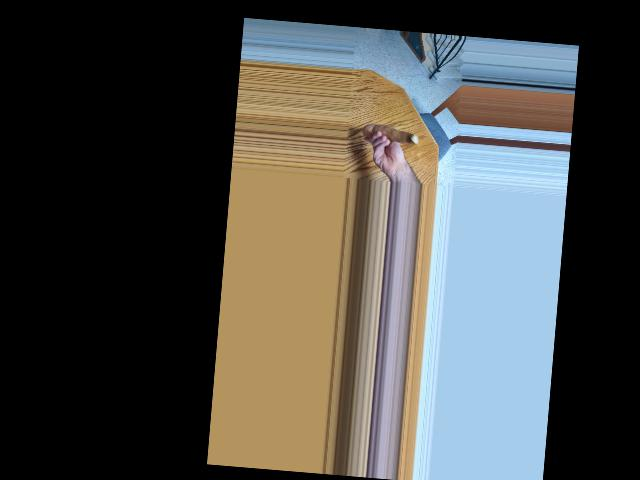sweet_potato: (361, 121, 417, 150)
